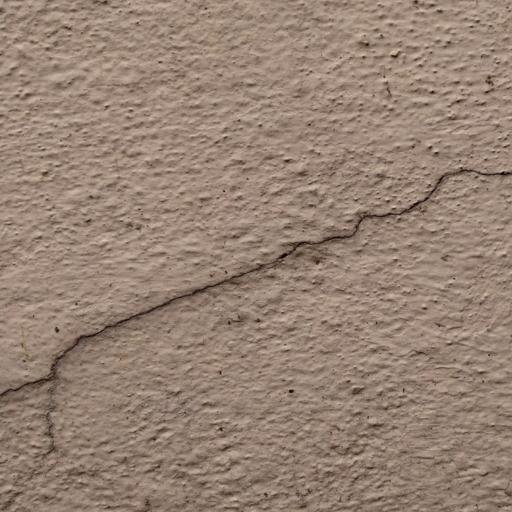minor_crack: (0, 139, 512, 436)
